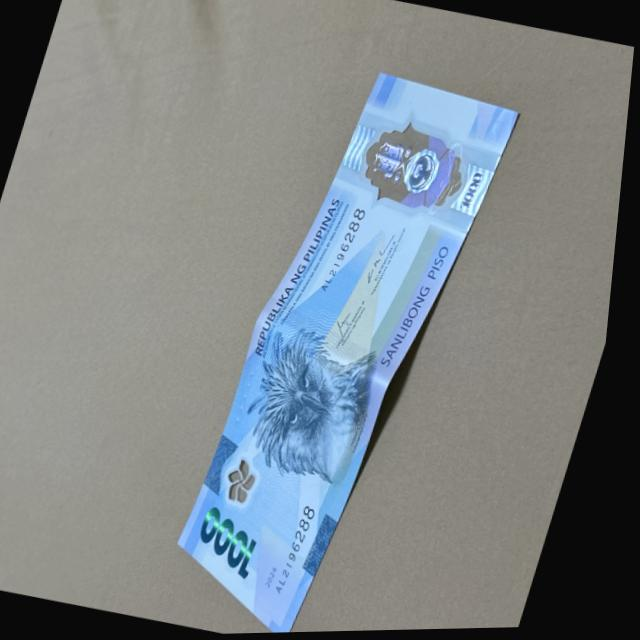clear_window: (346, 121, 474, 220)
eagle: (246, 331, 390, 481)
sampaguita: (229, 459, 270, 506)
